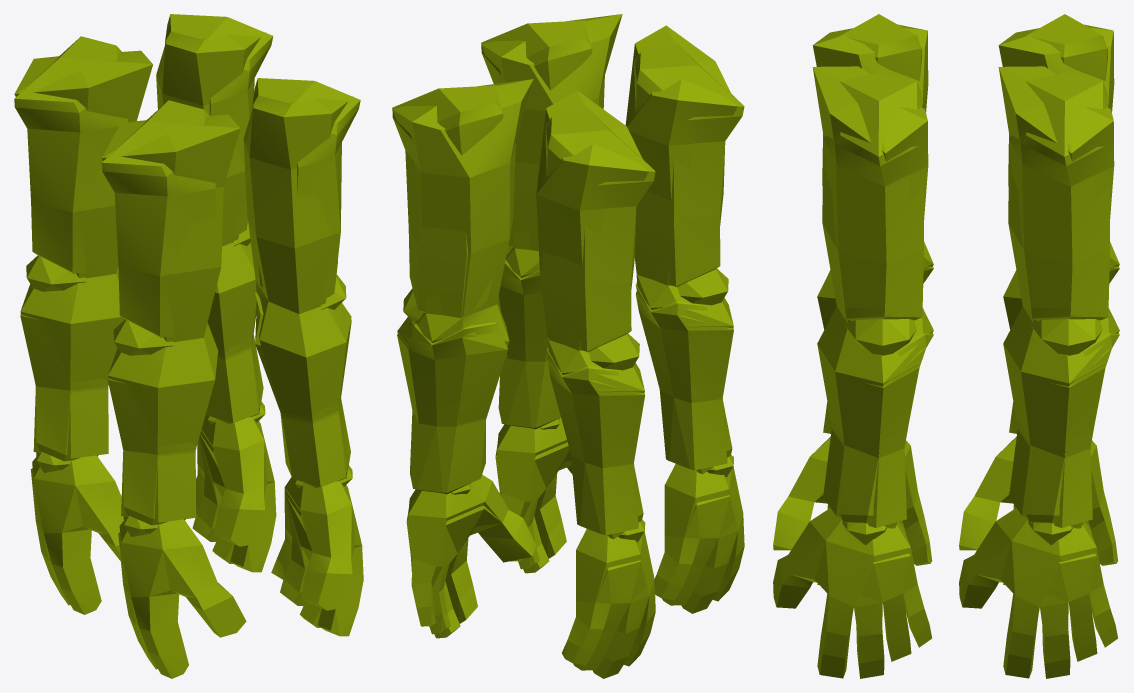
File: SM_FamiliarBody.fbx
3 views of the same model, side by side, from view 1: azimuth 30°, elevation 25°; view 2: azimuth 150°, elevation 25°; view 3: azimuth 270°, elevation 25° (orthographic). The views are drawn at different scales.
Parts seen in each view (by area): view 1: FamiliarBodyMesh; view 2: FamiliarBodyMesh; view 3: FamiliarBodyMesh.
Part boxes in pixels (box(x1,y1,x2,y2)): FamiliarBodyMesh: box(14, 14, 363, 678); FamiliarBodyMesh: box(392, 14, 744, 678); FamiliarBodyMesh: box(773, 14, 1119, 678).
Size of the model in its own units: 48.66 by 97.49 by 53.02.
